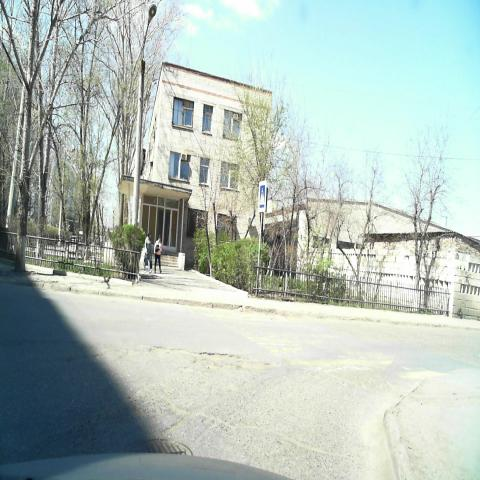5_19_1: (258, 180, 266, 212)
